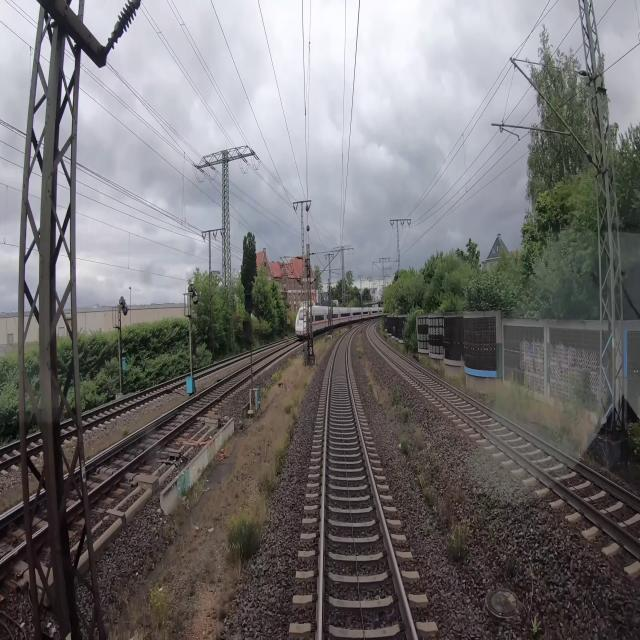Plant: (178, 339, 331, 624), (356, 339, 496, 558), (163, 432, 237, 545), (108, 555, 174, 639), (503, 553, 523, 582), (527, 614, 545, 636), (122, 426, 128, 436)
